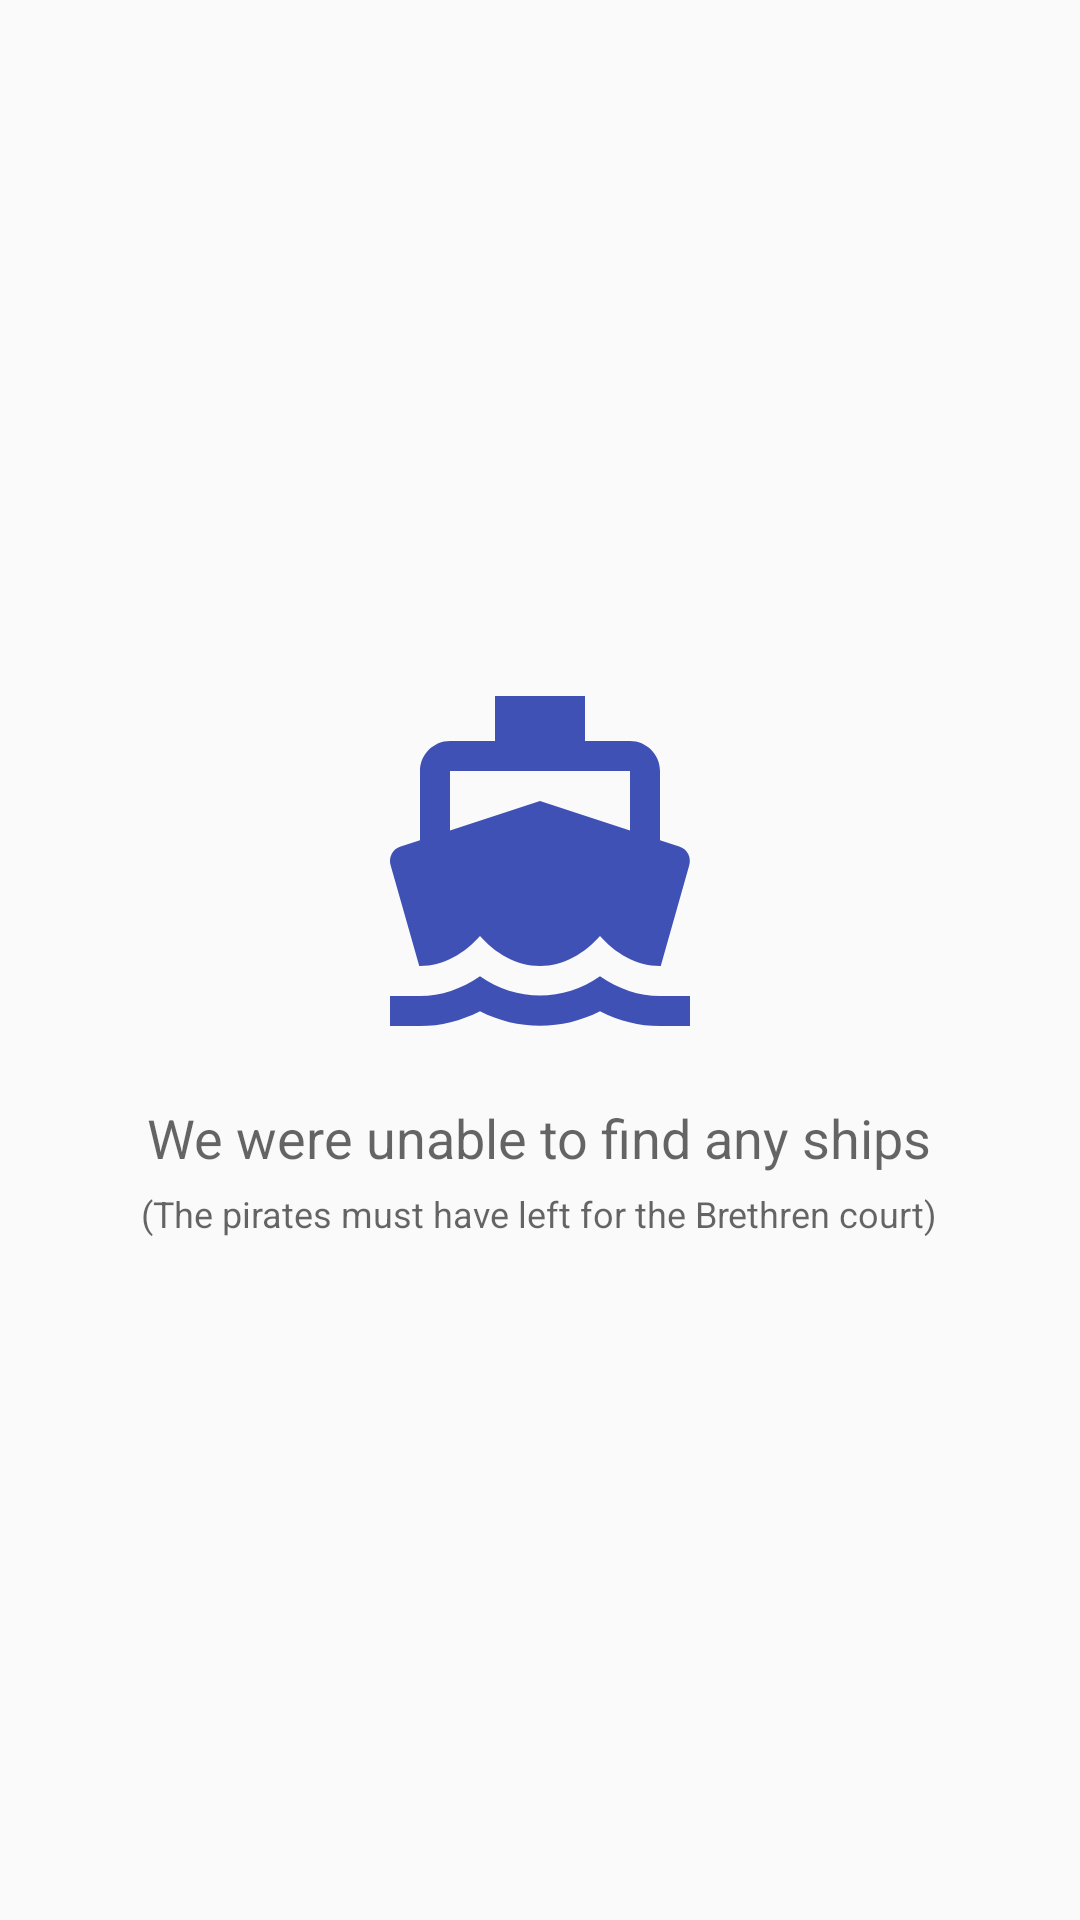

Screen size 1080px x 1920px. Icon name, then its box in pixels as (x1, y1, x2, y2):
directions boat: (390, 696, 690, 1026)
